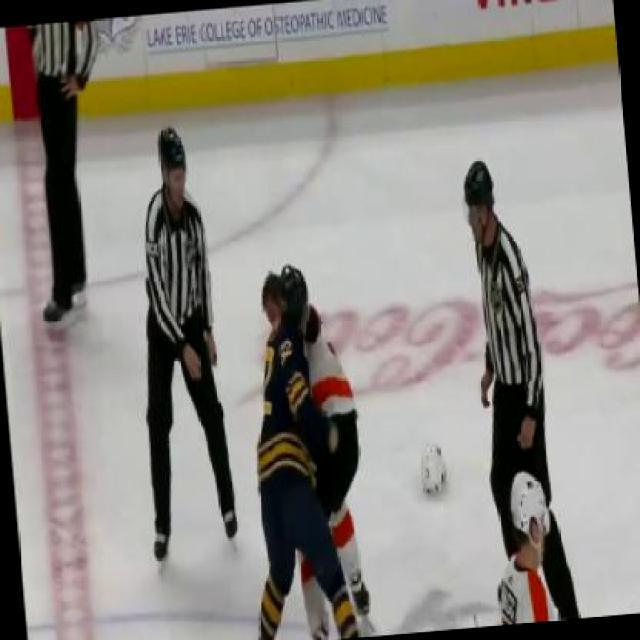fight: (229, 258, 383, 638)
non-fight: (456, 152, 582, 625), (118, 120, 242, 563)
